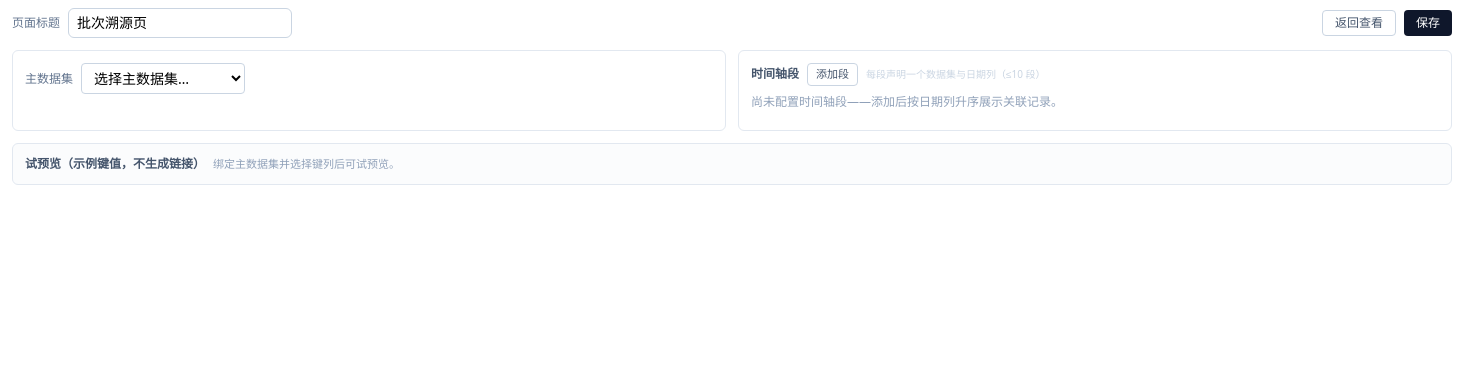
RecordViewEditor（试预览 4.2） › preview 失败（422）：服务端 detail 如实红条呈现
Select "批次集（20 行）" in the dropdown with test id "editor-recordview-dataset": (163, 78) [81,63,245,94]
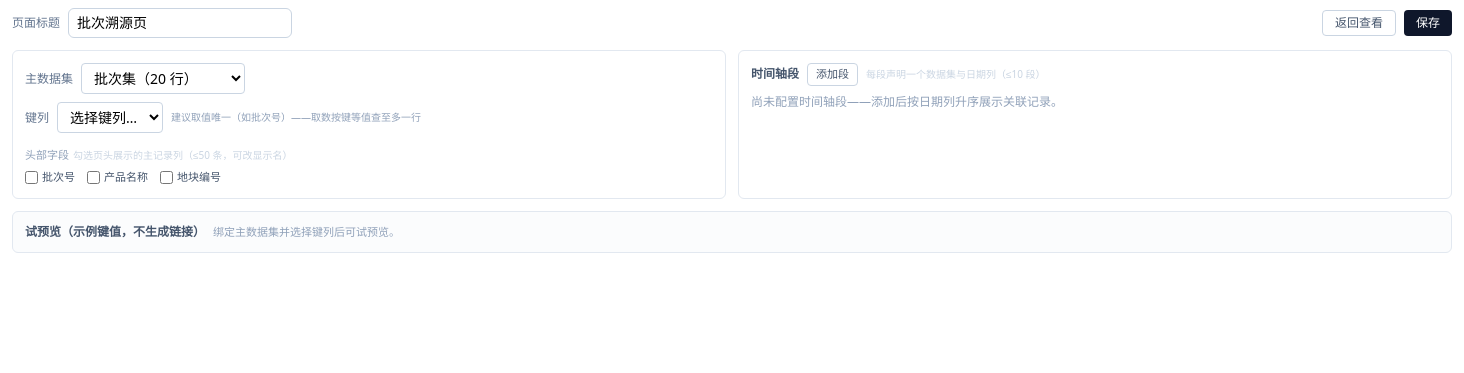
Select "批次号" in the dropdown with test id "editor-recordview-key-column": (110, 118) [57,102,163,133]
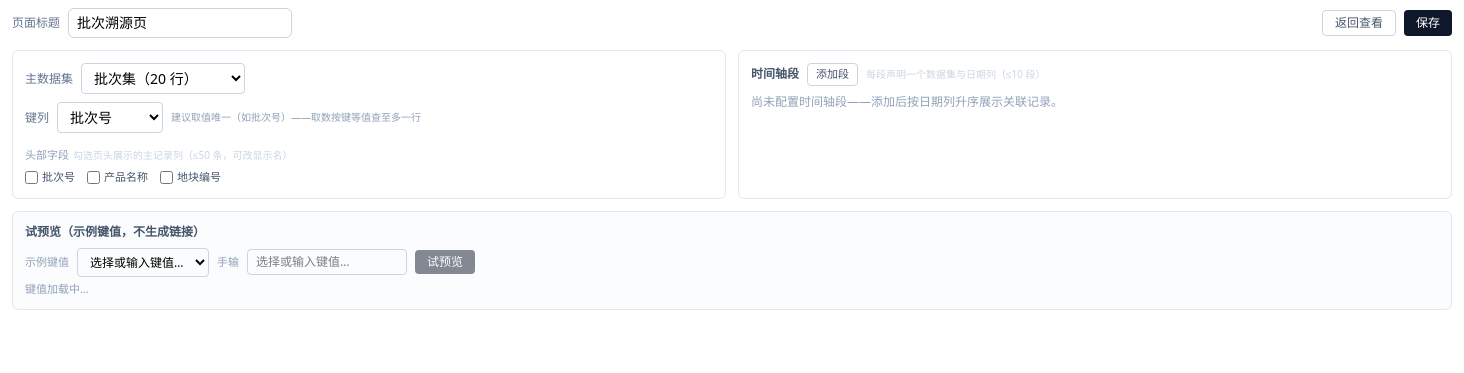
In the field with test id "record-view-preview-key-manual": (327, 262) [247,249,407,275], type "B-01"
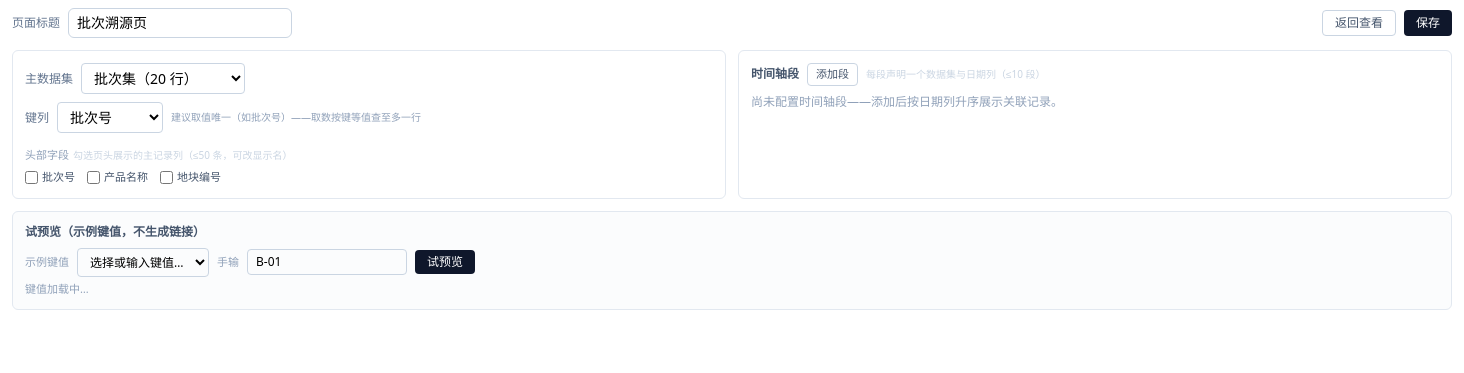
Click the button with test id "record-view-preview-button": (445, 262) [415,250,475,274]
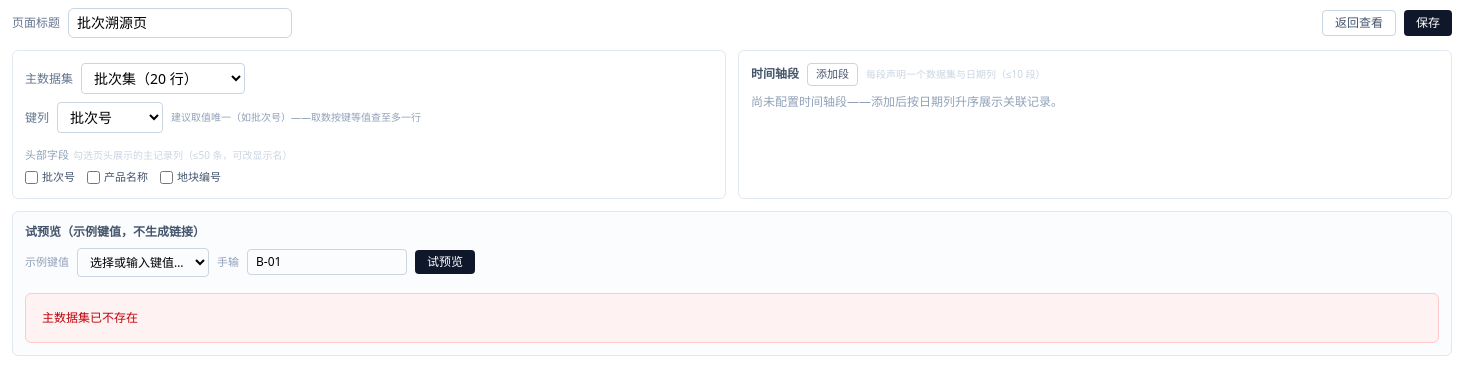
Now the element with test id "record-view-preview-error" reads "主数据集已不存在", box [42,308,138,326]
